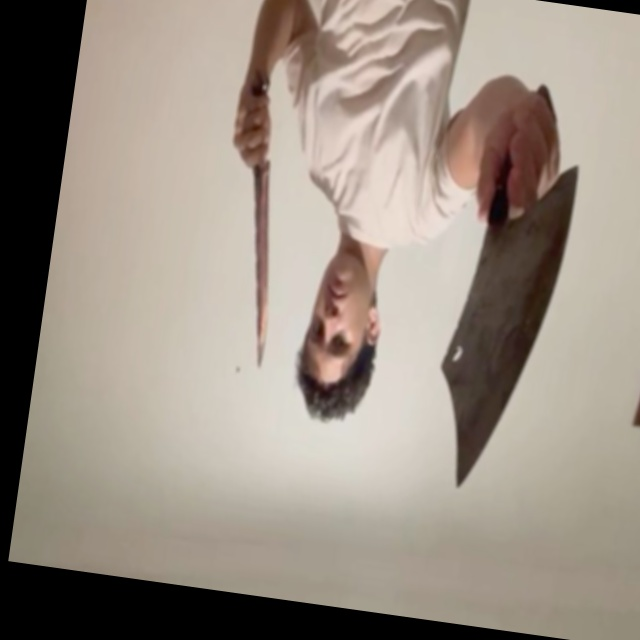Sharp-Object: (423, 150, 580, 499), (226, 163, 289, 367)
